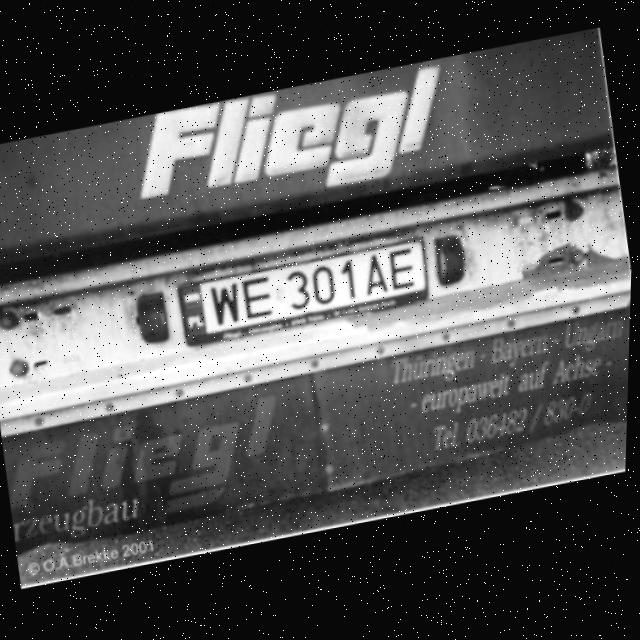license-plates: (180, 241, 428, 345)
